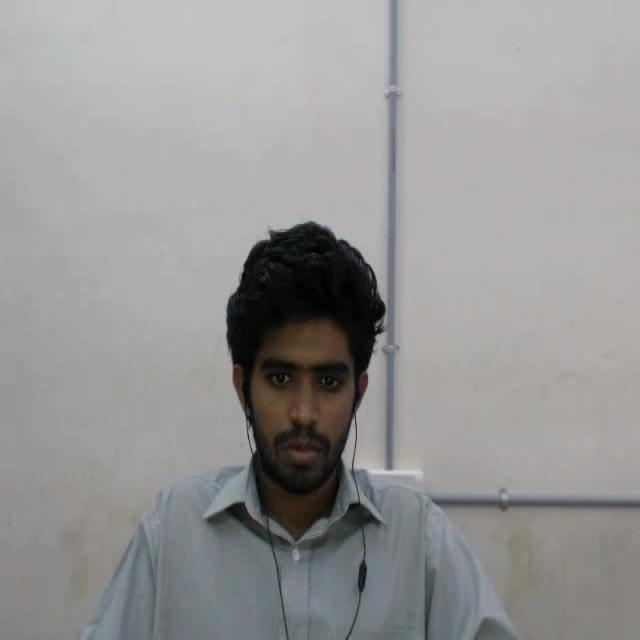Engaged: (201, 200, 399, 497)
